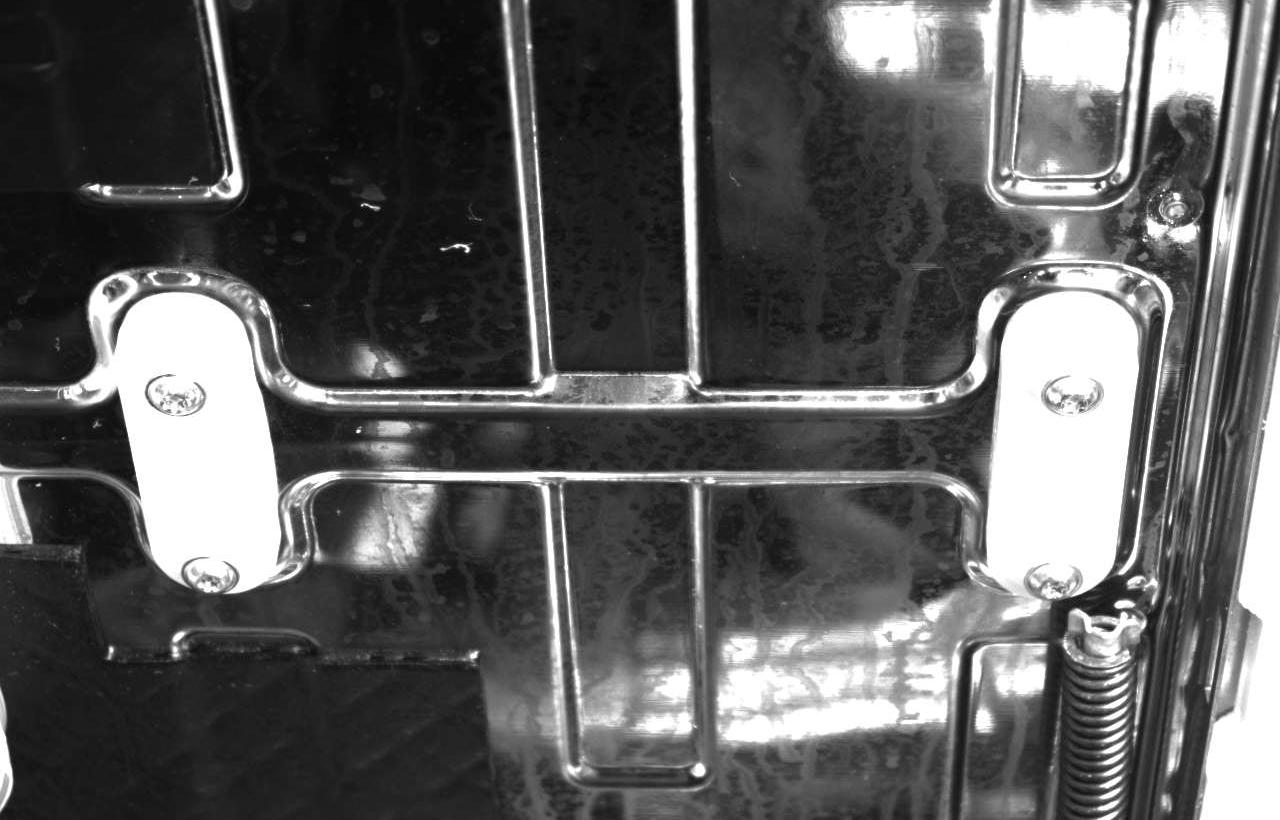vida-ok: (136, 359, 222, 437), (1019, 354, 1107, 427), (173, 537, 254, 602), (1007, 548, 1082, 607)
